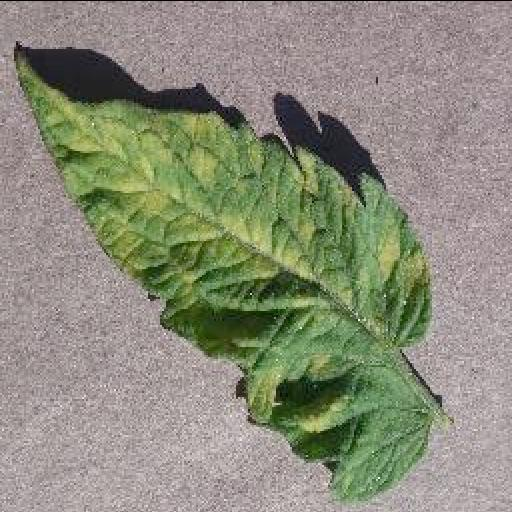disease_tomato: (13, 41, 435, 498)
